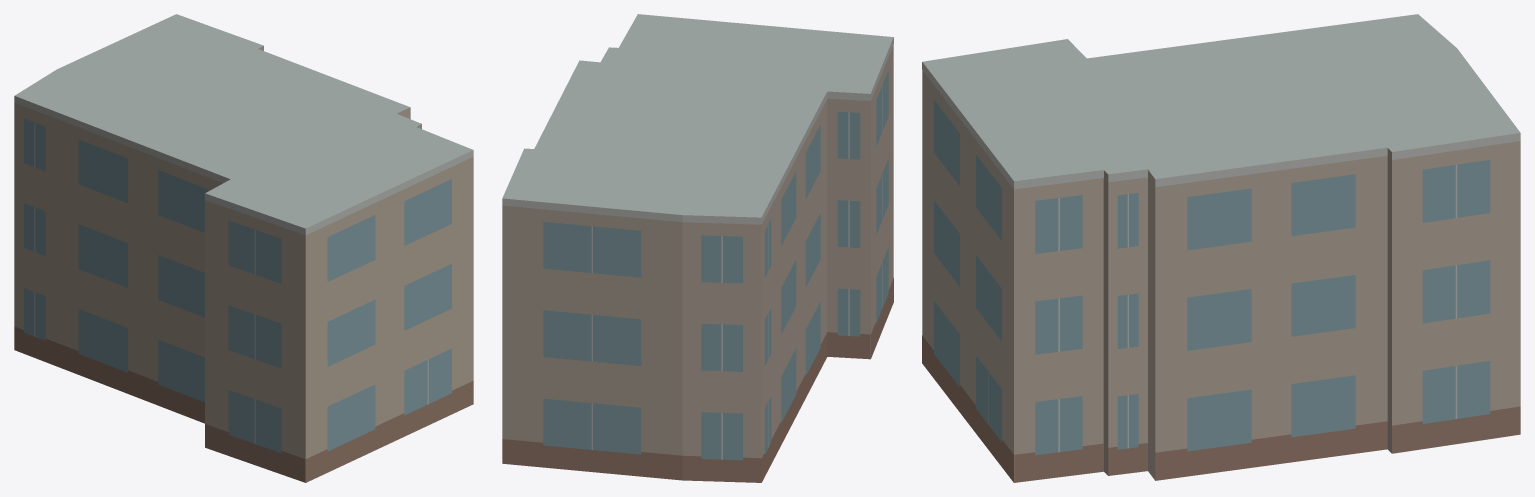
The model's file is survey-upis-32662705.glb.
3 renders of one model, left to right at view 1: azimuth 30°, elevation 25°; view 2: azimuth 150°, elevation 25°; view 3: azimuth 270°, elevation 25°, orthographic. The views are drawn at different scales.
Parts seen in each view (by area): view 1: survey-upis-32662705.tmp; view 2: survey-upis-32662705.tmp; view 3: survey-upis-32662705.tmp.
Part boxes in pixels (x1,y1,x2,y2): survey-upis-32662705.tmp: (14,14,473,482); survey-upis-32662705.tmp: (502,14,893,482); survey-upis-32662705.tmp: (922,14,1520,482).
Size of the model in its own units: 10.89 by 9.15 by 16.46.
